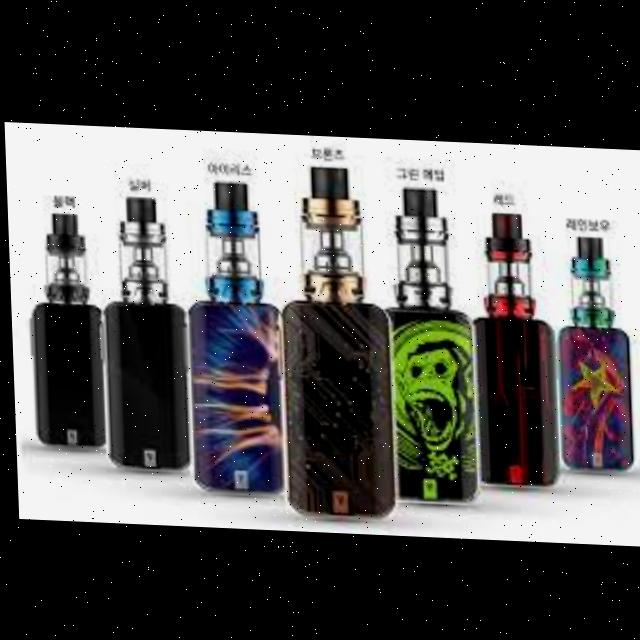vape: (278, 162, 393, 523), (186, 173, 285, 497), (387, 176, 474, 499), (468, 201, 557, 488), (108, 196, 187, 472), (24, 193, 107, 455), (556, 232, 632, 471)
